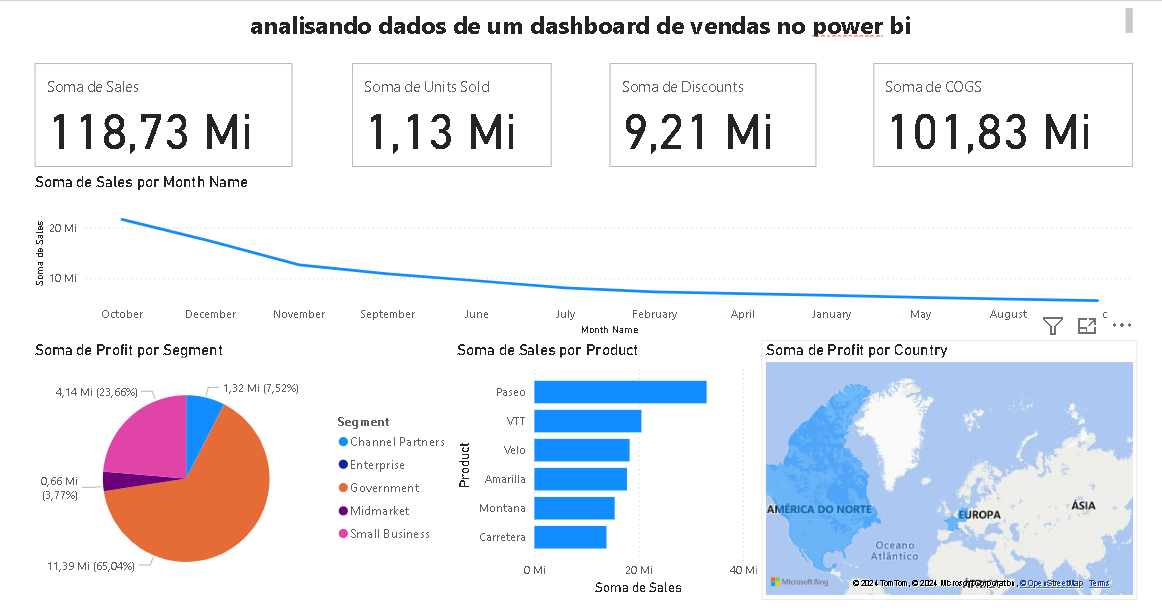

This screenshot's page, from the dashboard's own definition file:
{"tool":"powerbi","page":{"name":"Página 1","canvas":[1280,720],"ordinal":0},"visuals":[{"type":"cardVisual","fields":{"Data":["Sum(financials. Sales)"]},"box":[49.4,109.8,279.9,119.4],"z":0},{"type":"cardVisual","fields":{"Data":["Sum(financials.Units Sold)"]},"box":[388.3,109.8,222.3,119.4],"z":1},{"type":"cardVisual","fields":{"Data":["Sum(financials.Discounts)"]},"box":[675.1,109.8,220.9,119.4],"z":2},{"type":"cardVisual","fields":{"Data":["Sum(financials.COGS)"]},"box":[955.1,109.8,279.9,119.4],"z":3},{"type":"lineChart","fields":{"Y":["Sum(financials. Sales)"],"Category":["financials.Month Name"]},"box":[49.4,229.2,1185.6,149.6],"z":4},{"type":"pieChart","fields":{"Y":["Sum(financials.Profit)"],"Category":["financials.Segment"]},"box":[49.4,378.7,450.1,341.7],"z":5},{"type":"barChart","fields":{"Y":["Sum(financials. Sales)"],"Category":["financials.Product"]},"box":[499.5,378.7,348.5,341.7],"z":6},{"type":"filledMap","fields":{"Category":["financials.Country"]},"box":[848,379,387,341],"z":7},{"type":"textbox","box":[49.4,52.1,1185.6,57.6],"z":8}]}

Visuals, with their boxes on the page's 1280x720 design canvas (x1, y1, x2, y2). These are canvas units, not pixel positions in the 1162x612 screenshot, which may show the page scaled, cropped or inside an application window:
cardVisual - Sum(financials. Sales): [49,110,329,229]
cardVisual - Sum(financials.Units Sold): [388,110,611,229]
cardVisual - Sum(financials.Discounts): [675,110,896,229]
cardVisual - Sum(financials.COGS): [955,110,1235,229]
lineChart - Sum(financials. Sales) x financials.Month Name: [49,229,1235,379]
pieChart - Sum(financials.Profit) x financials.Segment: [49,379,500,720]
barChart - Sum(financials. Sales) x financials.Product: [500,379,848,720]
filledMap - financials.Country: [848,379,1235,720]
textbox: [49,52,1235,110]
